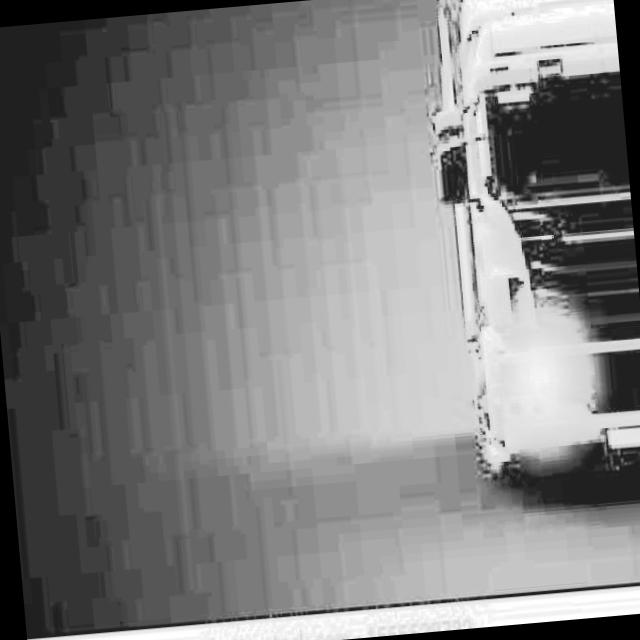Truck: (417, 0, 640, 501)
